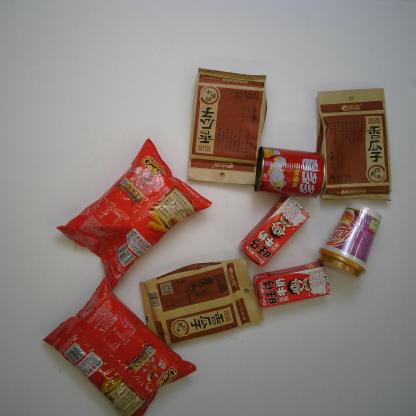Canned Food: (252, 144, 327, 200)
Dried Food: (140, 257, 266, 350), (185, 67, 269, 186), (312, 86, 394, 202)
Instant Drink: (316, 199, 384, 282)
Milk: (237, 194, 311, 268), (251, 260, 332, 309)
Puffed Food: (54, 134, 213, 291), (41, 273, 199, 415)
